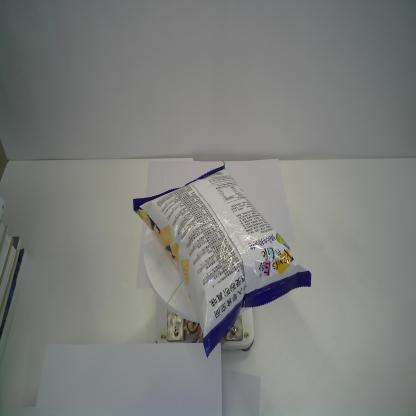Puffed Food: (131, 158, 312, 359)
